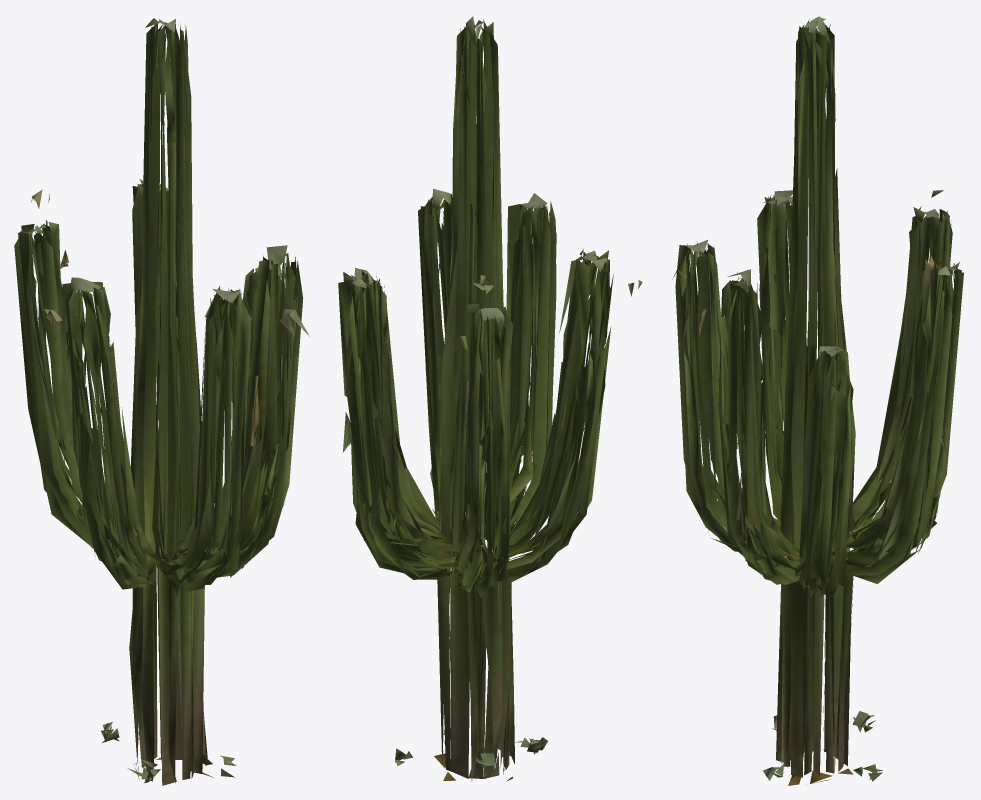
Rendered from cacto_colunar_adulta-lod.glb.
The picture shows the model from 3 angles, left to right: view 1: azimuth 30°, elevation 25°; view 2: azimuth 150°, elevation 25°; view 3: azimuth 270°, elevation 25°; orthographic projection.
Parts seen in each view (by area): view 1: geometry_0; view 2: geometry_0; view 3: geometry_0.
Boxes of the visible parts, x1=… form: geometry_0: x1=14, y1=18, x2=309, y2=785; geometry_0: x1=338, y1=16, x2=642, y2=781; geometry_0: x1=672, y1=16, x2=963, y2=785.
Bounding box in the file's own units: 0.3708 × 1.01 × 0.3571.
Materials: 1 (1 with a texture image).
